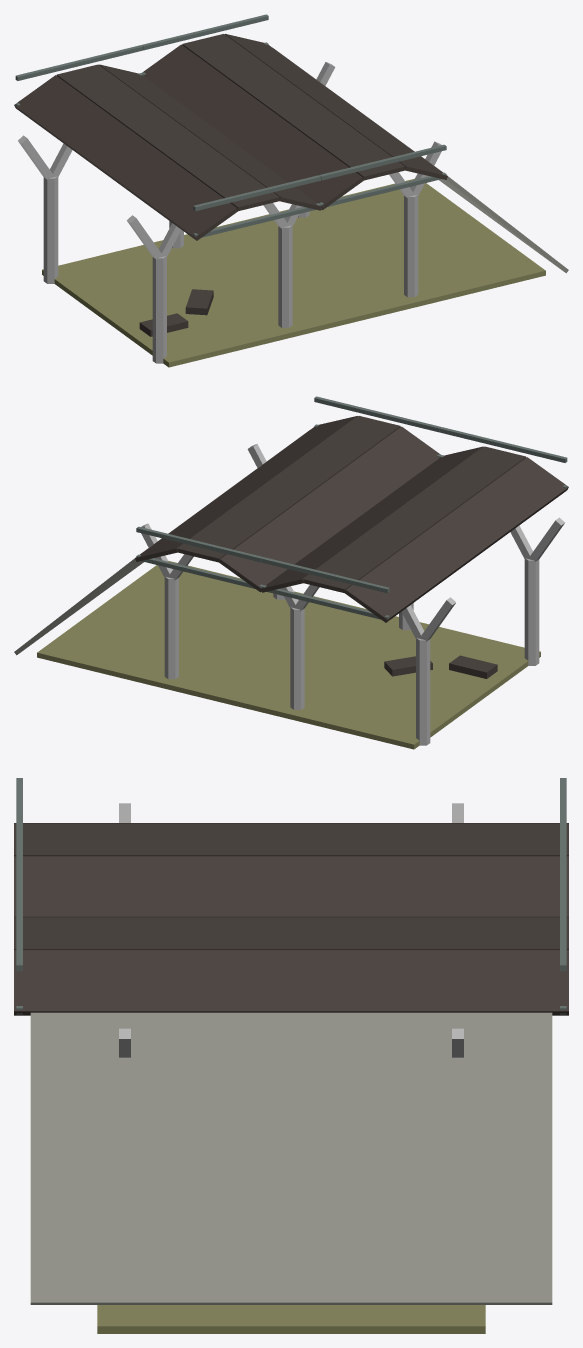
The model's file is SM_MarquesinaBus_v4_Quemada_e1_Danado_LOD1.fbx.
The picture shows the model from 3 angles, top to bottom: view 1: azimuth 30°, elevation 25°; view 2: azimuth 150°, elevation 25°; view 3: azimuth 270°, elevation 25°; orthographic projection. The views are drawn at different scales.
Parts seen in each view (by area): view 1: SM_marquesina_bus_v17_LOD1; view 2: SM_marquesina_bus_v17_LOD1; view 3: SM_marquesina_bus_v17_LOD1.
Part boxes in pixels (x1=…): SM_marquesina_bus_v17_LOD1: x1=14, y1=14, x2=568, y2=367; SM_marquesina_bus_v17_LOD1: x1=14, y1=396, x2=568, y2=749; SM_marquesina_bus_v17_LOD1: x1=14, y1=778, x2=568, y2=1333.
Size of the model in its own units: 13.03 by 5.46 by 10.
